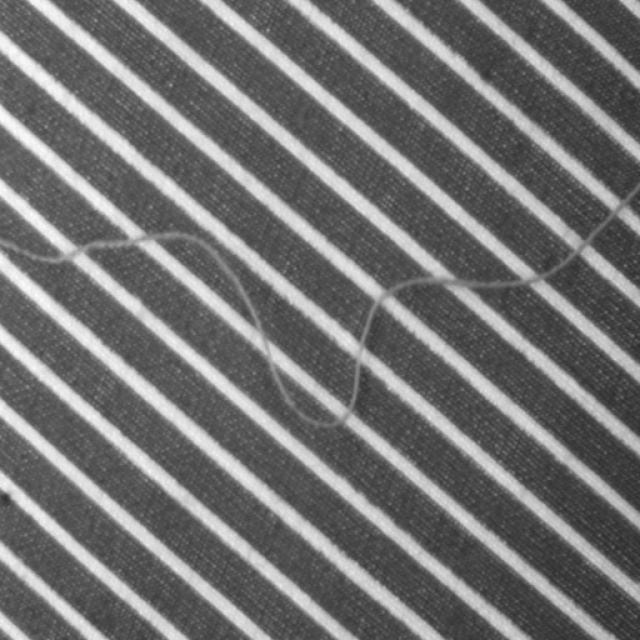Foreign-Body-Defect: (0, 230, 580, 428), (575, 179, 639, 258)
